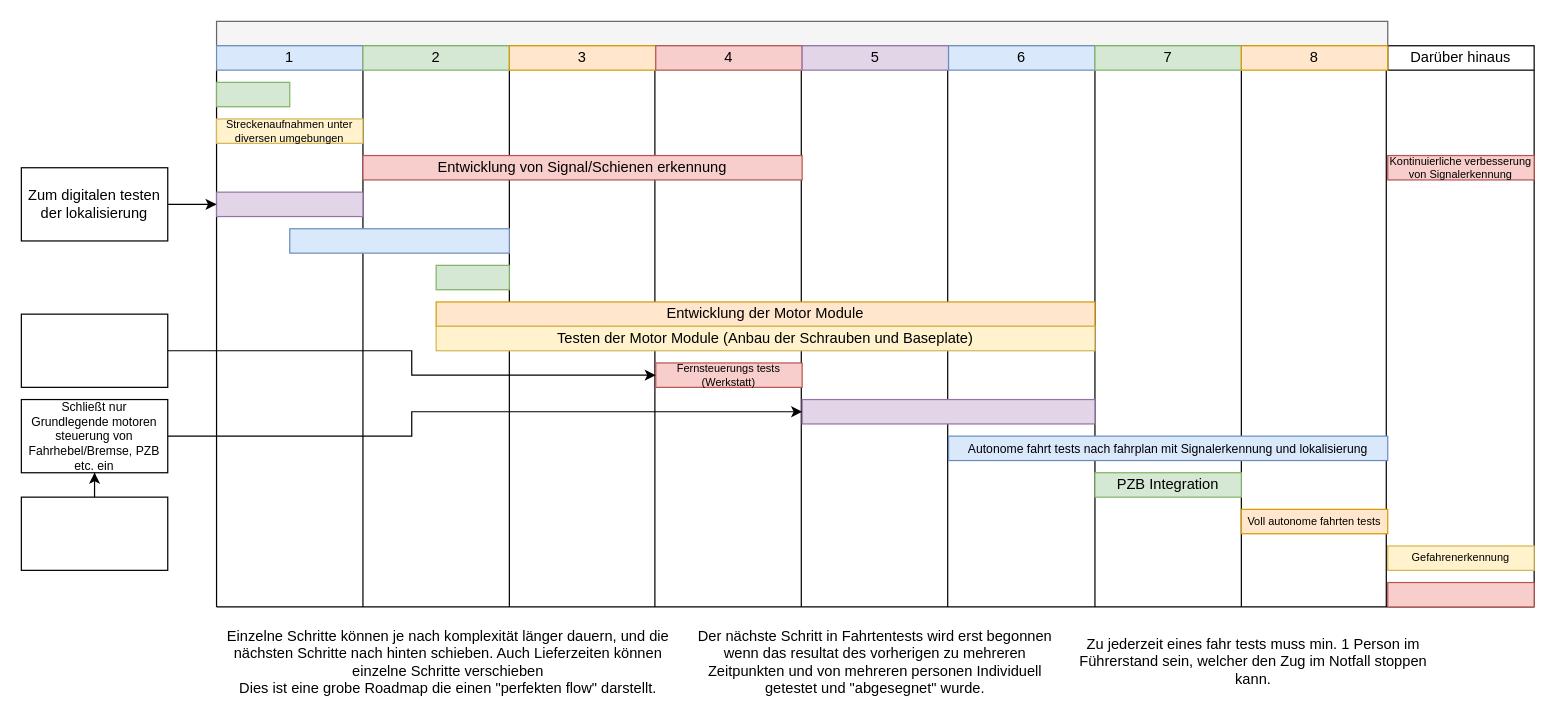
The diagram is 1557 pixels wide and 726 high, and some of its shapes have lost their labels. The box of each missing label's shape, as (x1, y1, x2, y2) in pixels:
3D nachbau des Zuges: (289, 228, 509, 253)
3D scan des Zuges: (215, 81, 290, 107)
Autonome fahrt tests nach fahrplan: (801, 398, 1095, 424)
Bei Bedarf Radar tests: (1387, 581, 1534, 607)
Beinhaltet entwicklung von seiten wechsel funktion: (20, 313, 168, 387)
Bestellung der hardware: (435, 264, 509, 290)
Streckenaufnahme bei fester Geschwindigkeit (e.g. 80km/h): (215, 191, 363, 217)
Woche: (215, 20, 1388, 46)
z.B. Motoren start, ansagen, FDL kommunikation, gefahren erkennung entfällt: (20, 496, 168, 570)
